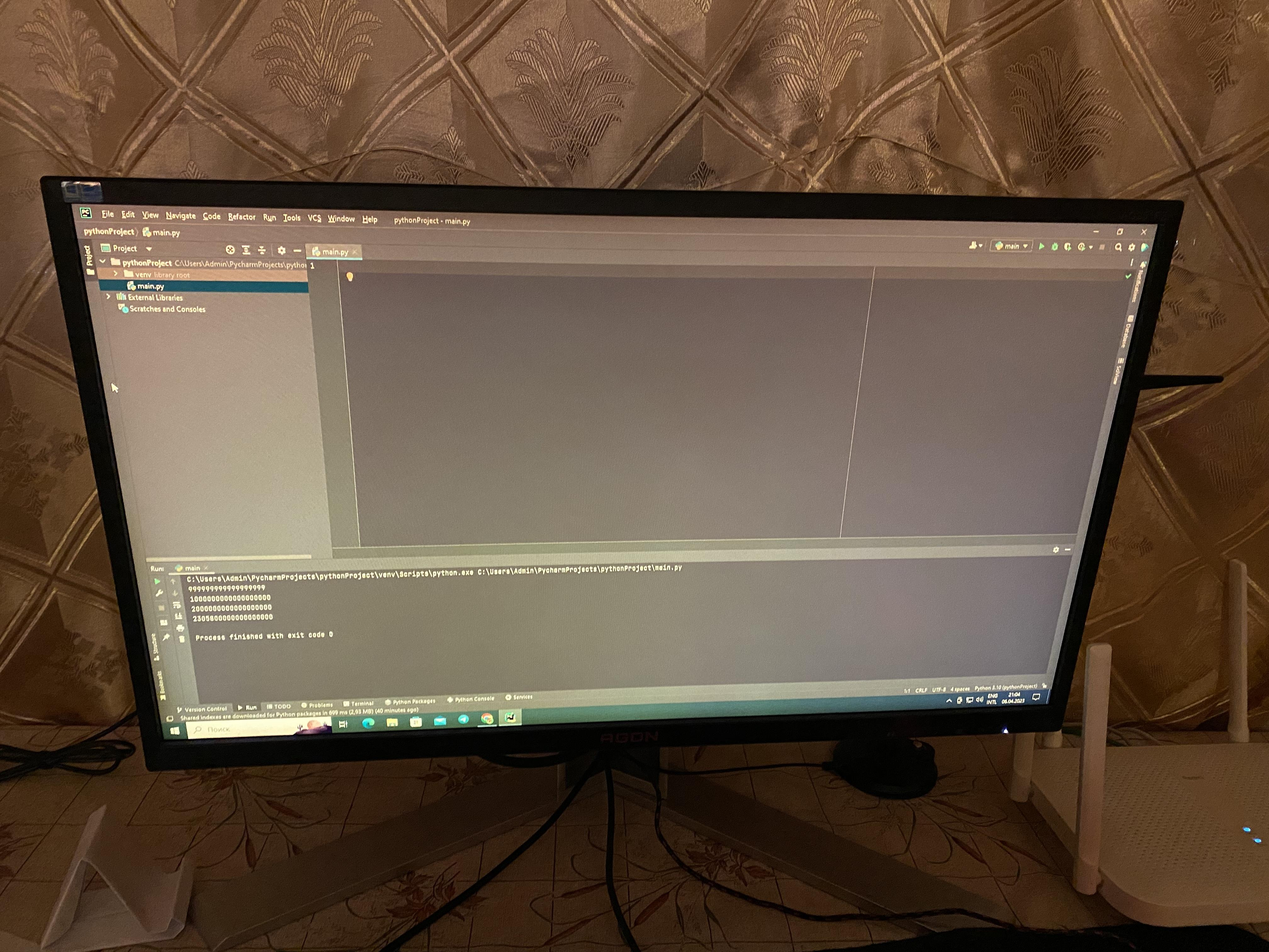monitor: (38, 170, 1187, 778)
